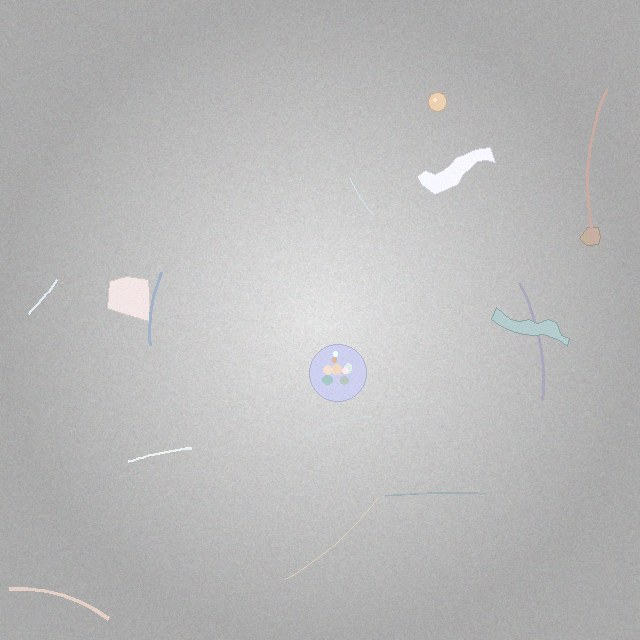fiber: (284, 495, 381, 582), (4, 584, 114, 623), (516, 280, 547, 404), (585, 87, 609, 243), (304, 415, 374, 439), (146, 269, 165, 349), (125, 445, 194, 465), (26, 277, 60, 317), (349, 177, 376, 217), (382, 491, 489, 499)
film: (418, 148, 496, 195), (492, 308, 570, 346)
foam: (309, 344, 366, 402)
fragment: (108, 277, 150, 322), (580, 227, 601, 245)
pellet: (428, 93, 446, 111)
